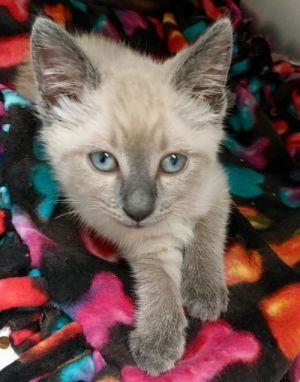siamese: (19, 5, 247, 239)
